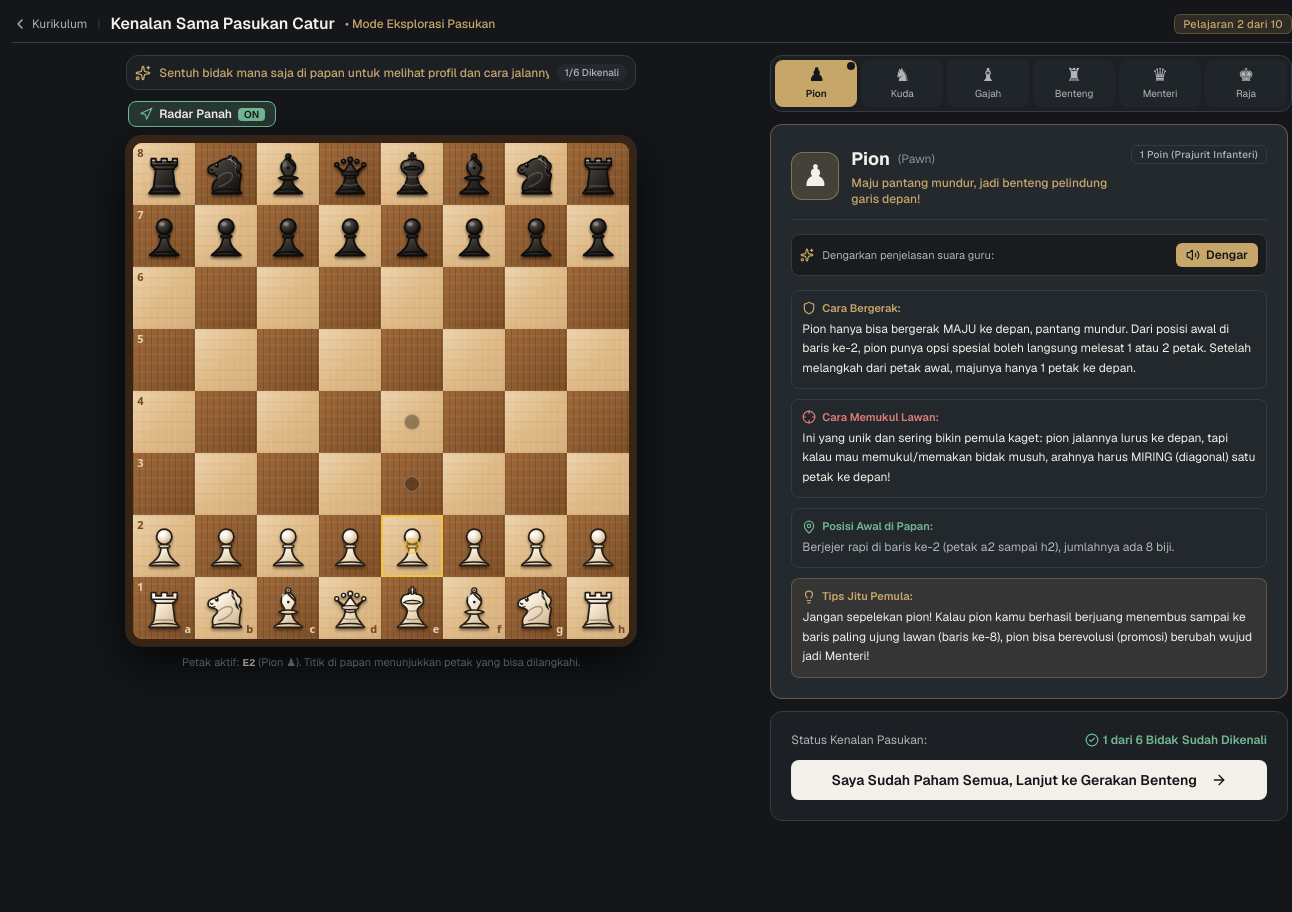
PieceShowcaseExplorer - Free Piece Showroom without Quiz Modals › switches piece profile when a selector button is clicked without error popups
This screenshot has width=1292, height=912.
Click on Kuda button
Click the button "♞ Kuda" at {"x": 902, "y": 84}, box [861, 60, 943, 107]
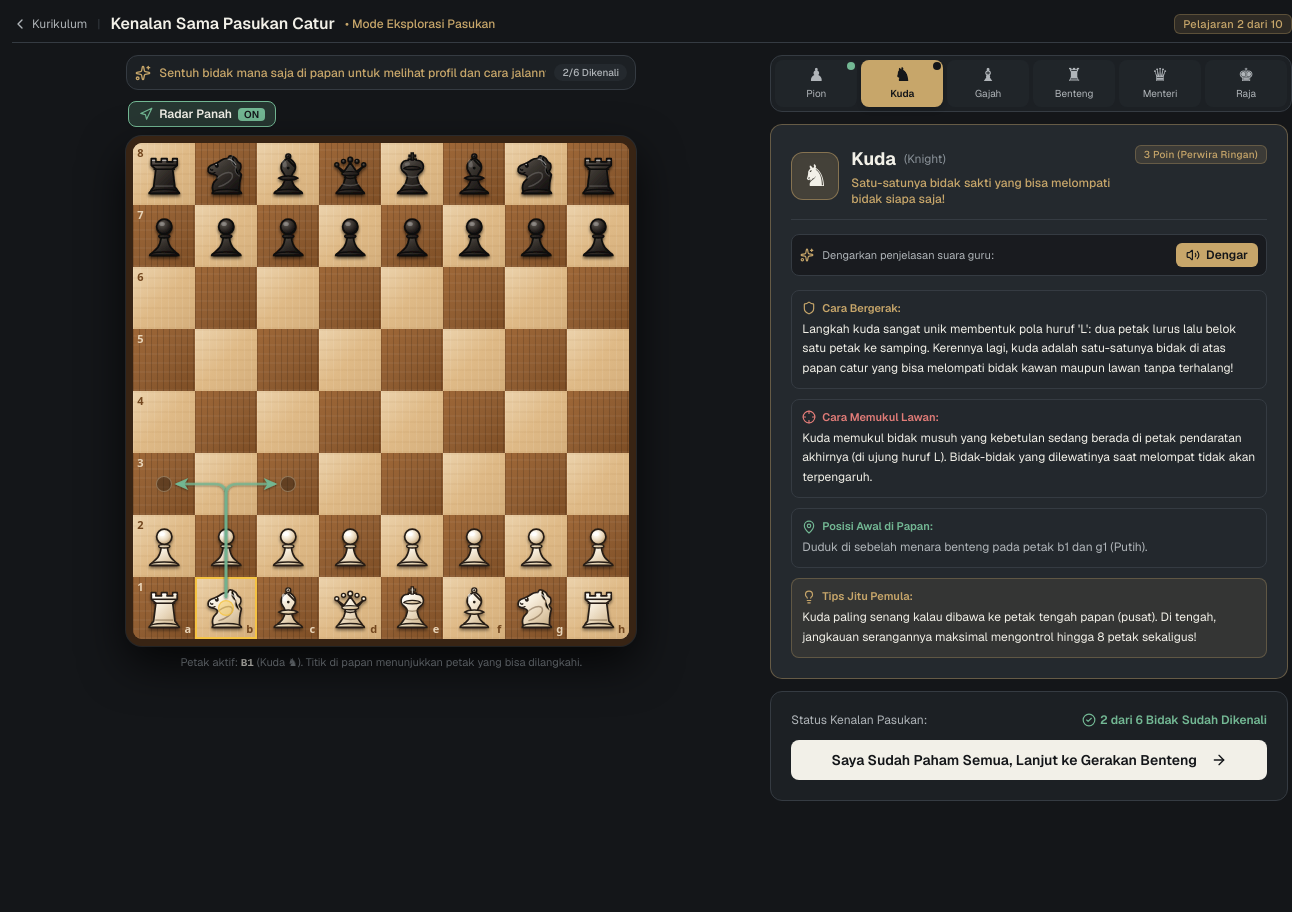
Expected: the heading "Kuda" is shown, [851, 145, 896, 173]
Expected: the text "(Knight)" is shown, [904, 151, 946, 167]
Expected: the text "3 Poin (Perwira Ringan)" is shown, [1135, 145, 1267, 164]
